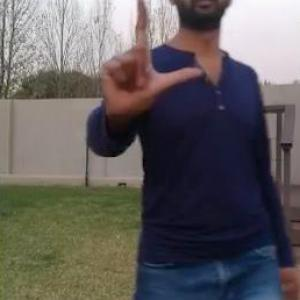land_hand: (95, 0, 206, 124)
